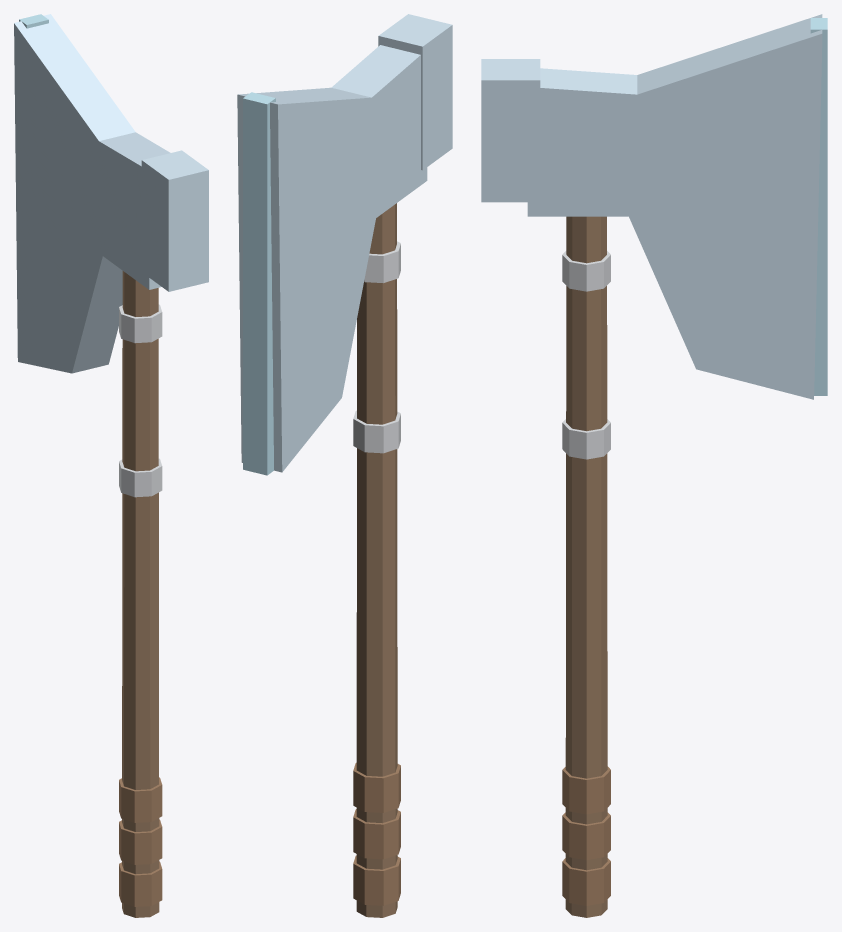
Rendered from Axe_5.fbx.
3 renders of one model, left to right at view 1: azimuth 30°, elevation 25°; view 2: azimuth 150°, elevation 25°; view 3: azimuth 270°, elevation 25°, orthographic. The views are drawn at different scales.
Visible parts, largest first — view 1: Axe_5_Mesh; view 2: Axe_5_Mesh; view 3: Axe_5_Mesh.
Part boxes in pixels (x1,y1,x2,y2): Axe_5_Mesh: (14, 14, 208, 917); Axe_5_Mesh: (237, 14, 452, 917); Axe_5_Mesh: (481, 14, 827, 917).
Bounding box in the file's own units: 0.06 × 1.16 × 0.411.
